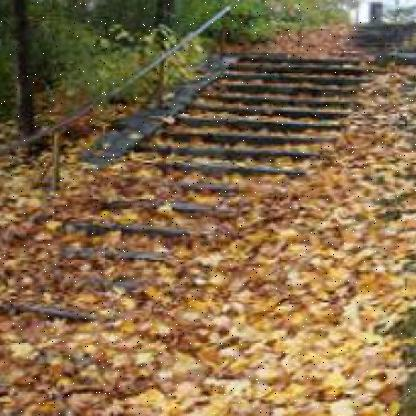stair_up: (9, 132, 188, 329)
